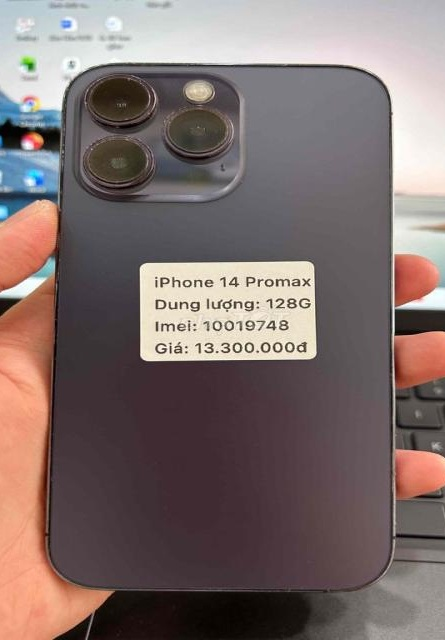scratch: (164, 100, 242, 172), (63, 131, 159, 189), (81, 75, 167, 130)
